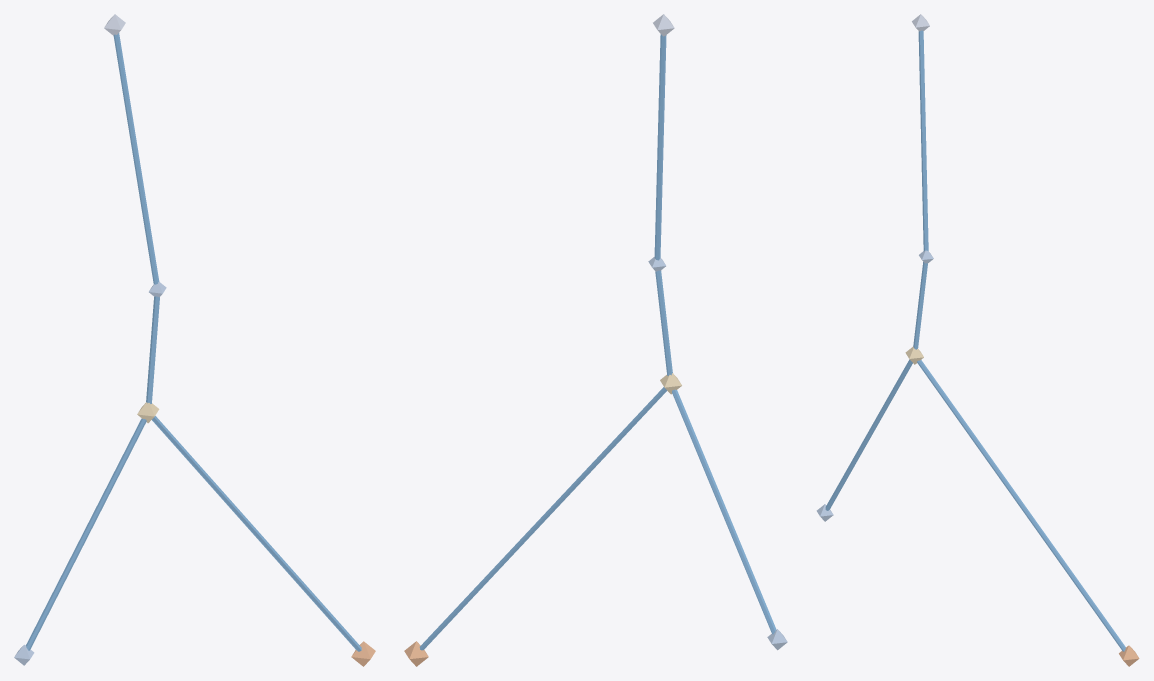
The model's file is constellation-cnc.glb.
3 views of the same model, side by side, from view 1: azimuth 30°, elevation 25°; view 2: azimuth 150°, elevation 25°; view 3: azimuth 330°, elevation 25° (orthographic). The views are drawn at different scales.
Size of the model in its own units: 1.15 by 2.1 by 0.177.
